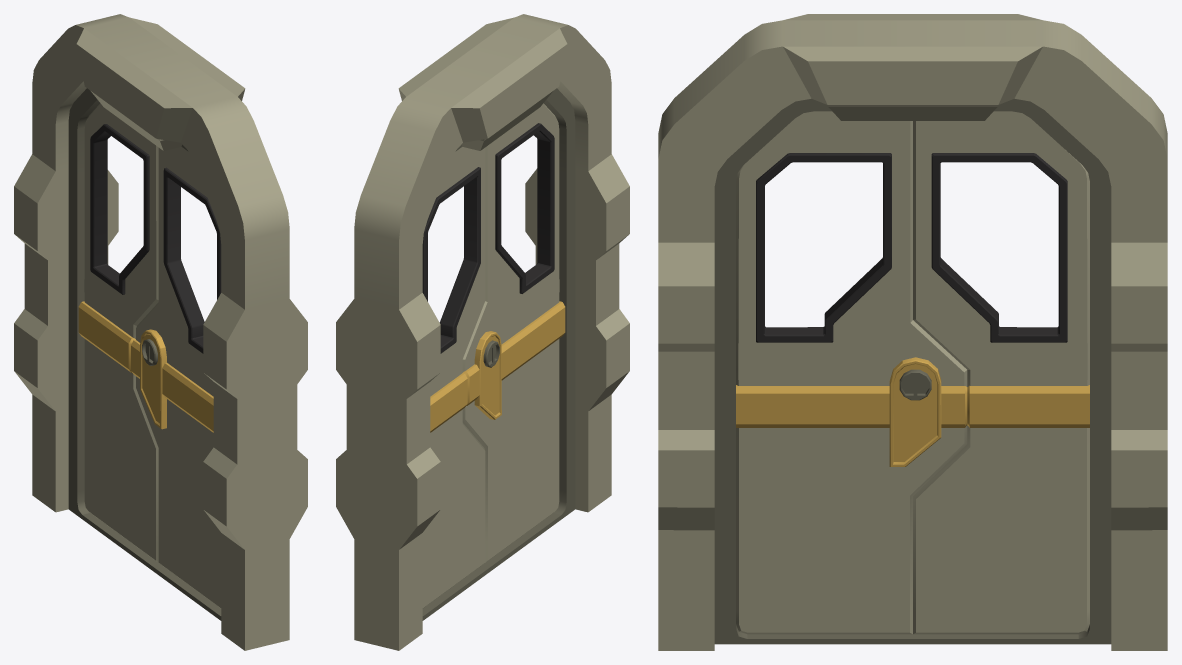
The model's file is door01 1.fbx.
3 renders of one model, left to right at view 1: azimuth 30°, elevation 25°; view 2: azimuth 150°, elevation 25°; view 3: azimuth 270°, elevation 25°, orthographic. The views are drawn at different scales.
Parts seen in each view (by area): view 1: door01, door02_01, door03_02, door03_01, door04_03, door04_02, door04_01; view 2: door01, door02_01, door03_01, door03_02, door04_03, door04_01, door04_02; view 3: door01, door02_01, door04_03, door03_02, door03_01, door04_02, door04_01, door02_02.
Boxes of the visible parts, bbox=[...] form: door01: bbox=[14, 14, 307, 650]; door02_01: bbox=[68, 88, 221, 620]; door03_02: bbox=[90, 124, 149, 294]; door03_01: bbox=[163, 167, 221, 353]; door04_03: bbox=[131, 339, 213, 432]; door04_02: bbox=[78, 301, 135, 372]; door04_01: bbox=[140, 329, 166, 429]; door01: bbox=[336, 14, 629, 650]; door02_01: bbox=[422, 88, 575, 620]; door03_01: bbox=[495, 123, 554, 293]; door03_02: bbox=[422, 167, 480, 353]; door04_03: bbox=[463, 301, 565, 405]; door04_01: bbox=[474, 331, 501, 419]; door04_02: bbox=[430, 373, 467, 432]; door01: bbox=[658, 14, 1167, 650]; door02_01: bbox=[714, 98, 1111, 644]; door04_03: bbox=[736, 385, 967, 427]; door03_02: bbox=[931, 153, 1067, 342]; door03_01: bbox=[756, 153, 891, 342]; door04_02: bbox=[967, 385, 1089, 427]; door04_01: bbox=[889, 357, 941, 466]; door02_02: bbox=[899, 369, 931, 400].
Size of the model in its own units: 44.38 by 264 by 201.
